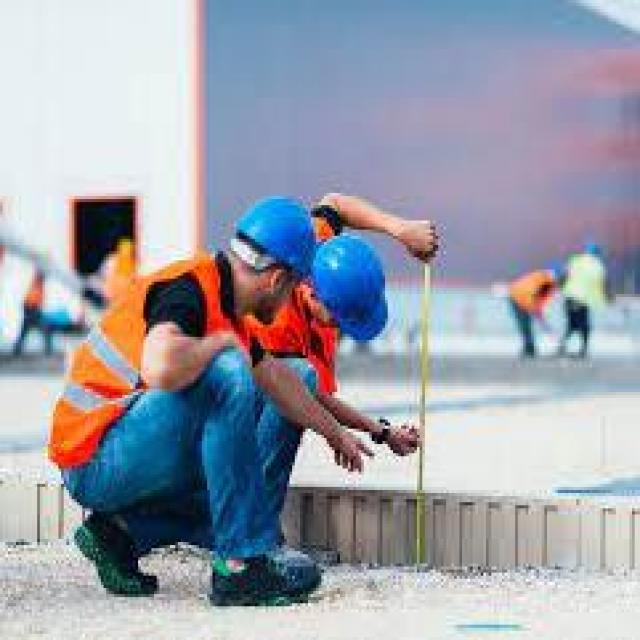Reflective-Jacket: (42, 257, 258, 472), (244, 282, 350, 432), (502, 264, 560, 324)
Safety-Helmet: (303, 227, 401, 346), (220, 184, 324, 288)
